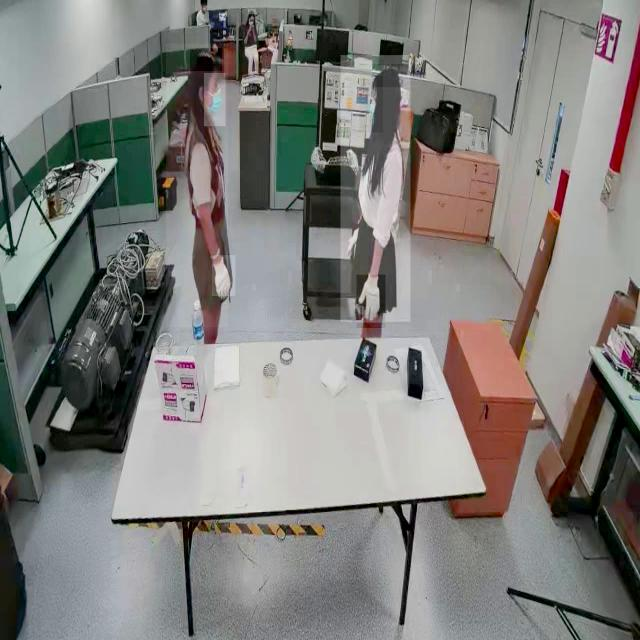face_mask: (359, 76, 383, 132), (204, 73, 226, 126)
hand_glove: (356, 275, 386, 329), (212, 255, 236, 297)
head_nohelmet: (190, 48, 222, 72), (372, 64, 404, 88), (248, 9, 256, 15)
person: (340, 55, 410, 323), (166, 44, 228, 328), (242, 12, 259, 78)
